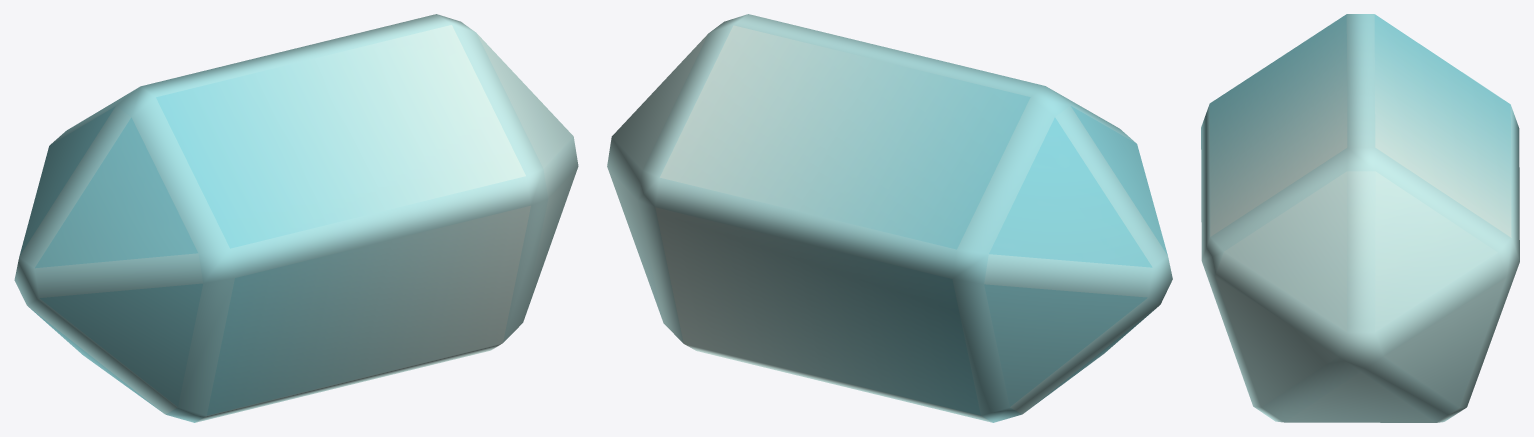
The model's file is christal_diamond_4.fbx.
The picture shows the model from 3 angles, left to right: view 1: azimuth 30°, elevation 25°; view 2: azimuth 150°, elevation 25°; view 3: azimuth 270°, elevation 25°; orthographic projection. The views are drawn at different scales.
Parts seen in each view (by area): view 1: christal_diamond_4; view 2: christal_diamond_4; view 3: christal_diamond_4.
Boxes of the visible parts, bbox=[...] form: christal_diamond_4: bbox=[14, 14, 578, 422]; christal_diamond_4: bbox=[607, 14, 1172, 422]; christal_diamond_4: bbox=[1201, 14, 1519, 422].
Bounding box in the file's own units: 64.69 × 34.12 × 35.88.
1 material, 1 textured.
